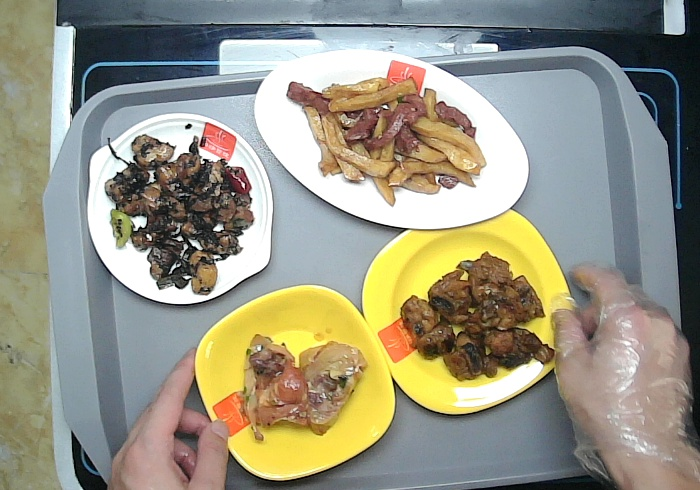SHKJ-Bao_Yu_Pan: (85, 112, 275, 305)
SHKJ-Huang_Se_Cai_Die: (194, 284, 397, 482)
SHKJ-Huang_Se_Si_Fang_Cai_Die: (359, 208, 579, 417)
SHKJ-Yu_Pan: (253, 48, 531, 232)
